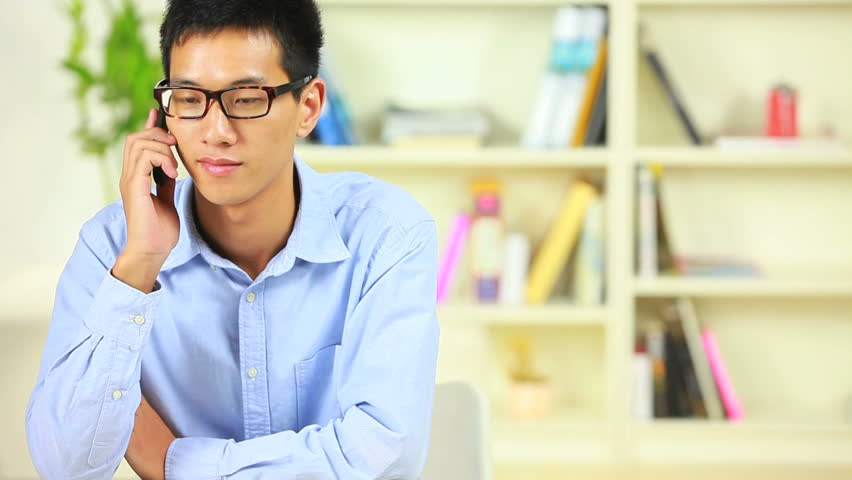phone: (134, 105, 182, 190)
talk: (115, 68, 294, 270)
